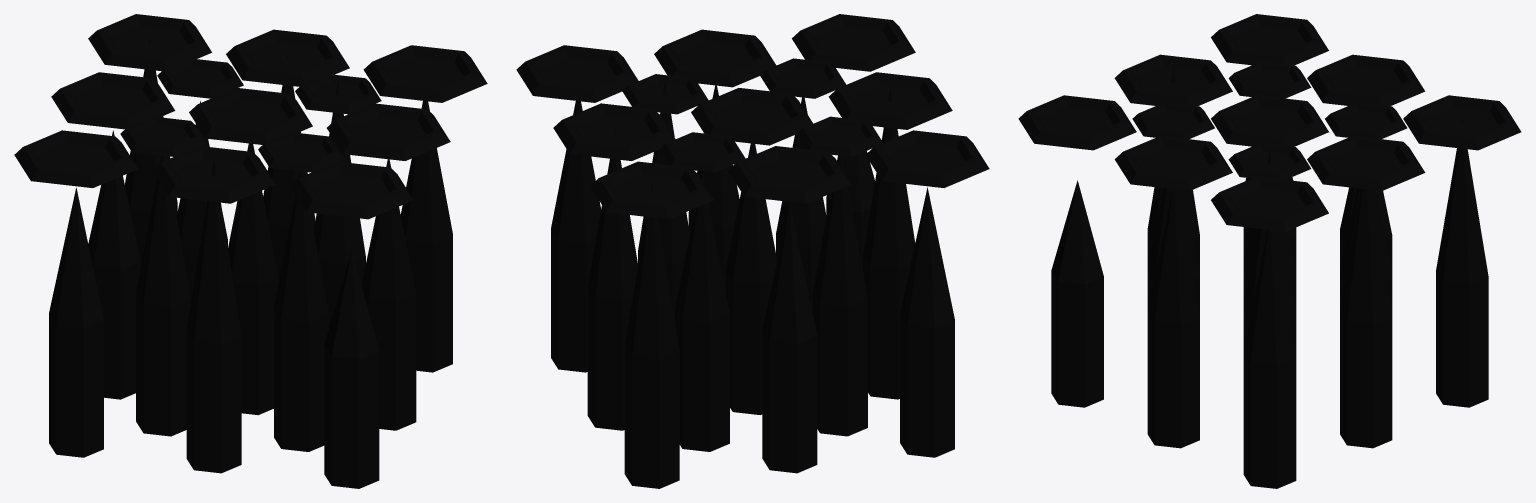
File: Spikes_0_0.fbx
The picture shows the model from 3 angles, left to right: view 1: azimuth 30°, elevation 25°; view 2: azimuth 150°, elevation 25°; view 3: azimuth 270°, elevation 25°; orthographic projection. The views are drawn at different scales.
Parts seen in each view (by area): view 1: Spikes, Spikes_0_0; view 2: Spikes, Spikes_0_0; view 3: Spikes, Spikes_0_0.
Boxes of the visible parts, x1,y1,x2,y2 form: Spikes: (49, 37, 452, 488); Spikes_0_0: (14, 14, 487, 219); Spikes: (551, 80, 954, 488); Spikes_0_0: (516, 14, 989, 219); Spikes: (1051, 67, 1488, 488); Spikes_0_0: (1018, 14, 1521, 231).
Size of the model in its own units: 1.11 by 0.7037 by 1.11.
Materials: 1 (1 with a texture image).
